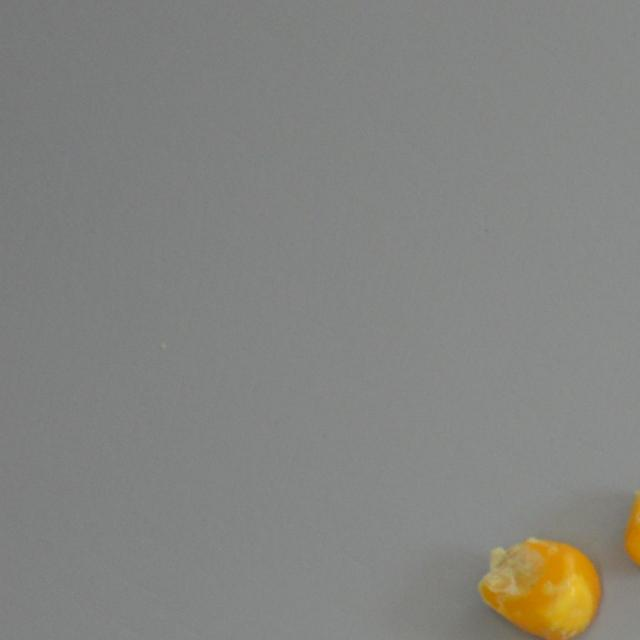no_desgerminado: (474, 532, 606, 640), (620, 478, 640, 578)
